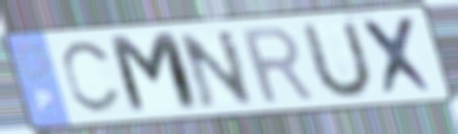C: (59, 38, 125, 118)
M: (104, 29, 206, 119)
N: (174, 27, 258, 111)
R: (236, 23, 319, 108)
U: (299, 17, 375, 104)
X: (358, 13, 442, 99)
